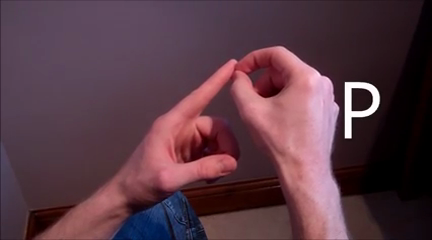P: (125, 35, 343, 200)
